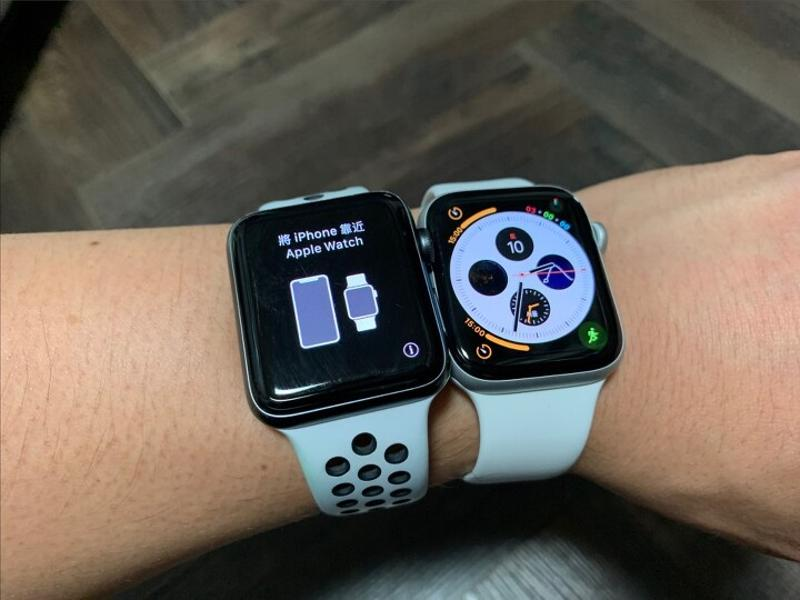watch: (207, 176, 450, 521), (419, 168, 629, 489)
